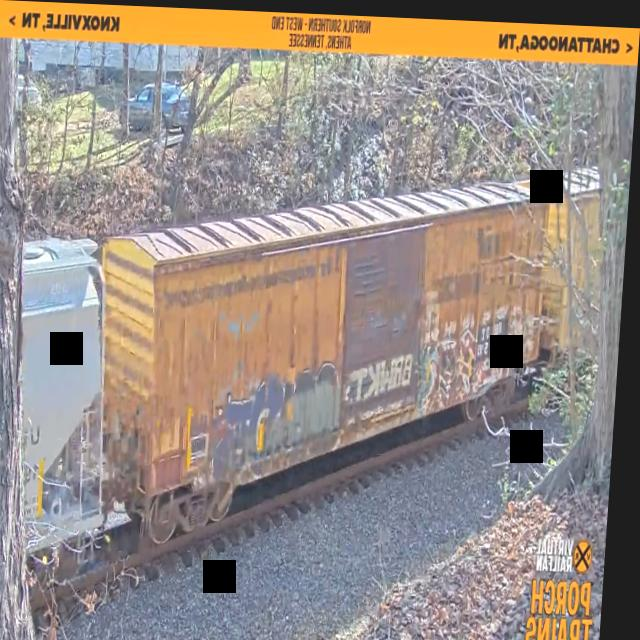boxcar: (87, 149, 558, 573)
